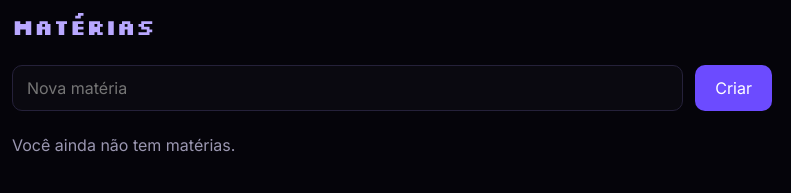
it: SubjectsPage › não chama a API com título vazio
This screenshot has width=791, height=193.
Expected: the text "Você ainda não tem matérias." is shown, top-left (12, 135), bottom-right (235, 155)
What coordinates should you click on to do the following:
click the button "Criar"
I would click on:
 (734, 88)
Its box is top-left (695, 65), bottom-right (772, 111).
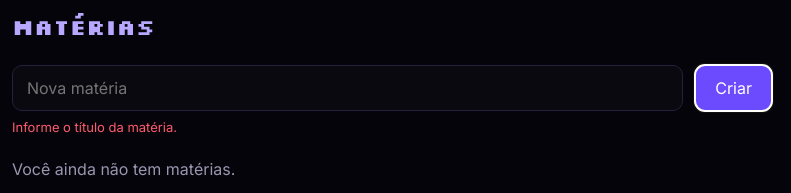
Now the text "Informe o título da matéria." is shown, box top-left (12, 119), bottom-right (177, 135)
